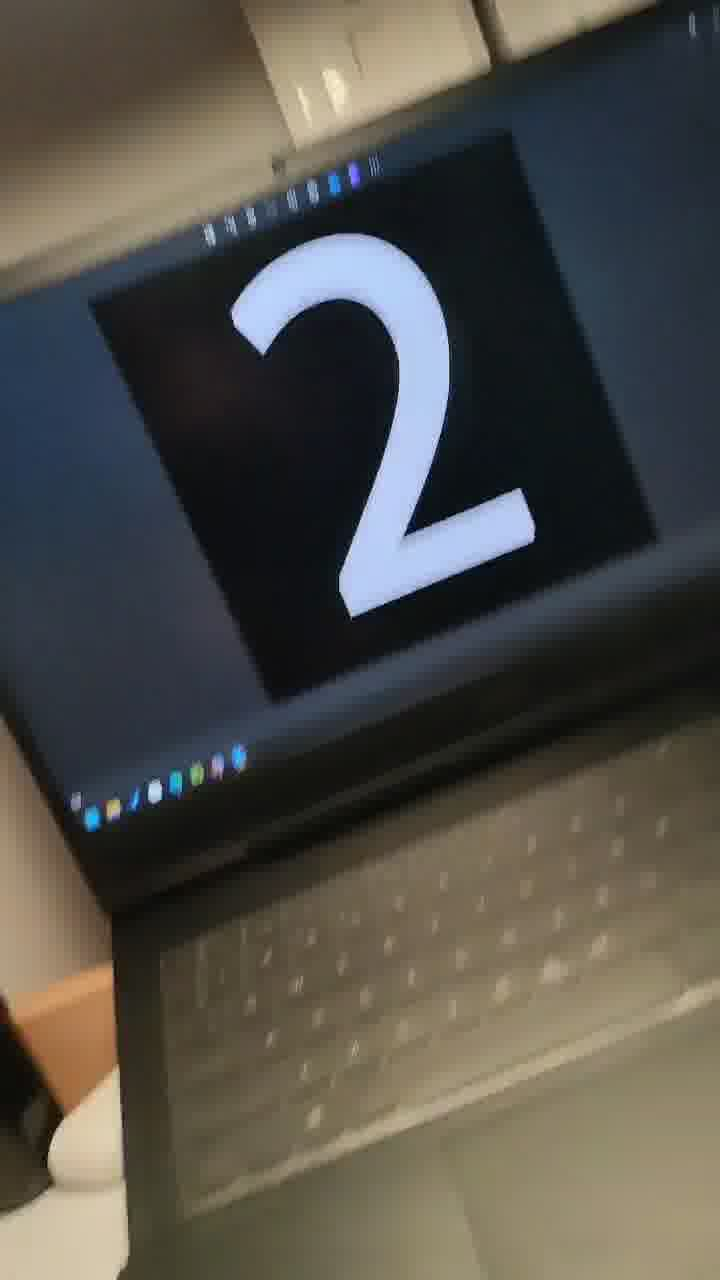two: (171, 200, 584, 697)
